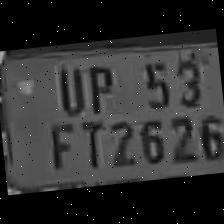2: (100, 115, 138, 170), (162, 110, 196, 164)
3: (170, 52, 204, 108)
5: (136, 55, 174, 110)
6: (134, 114, 168, 166), (192, 108, 224, 163)
F: (41, 114, 79, 174)
P: (78, 59, 118, 114)
T: (73, 114, 107, 173)
U: (51, 58, 88, 115)
